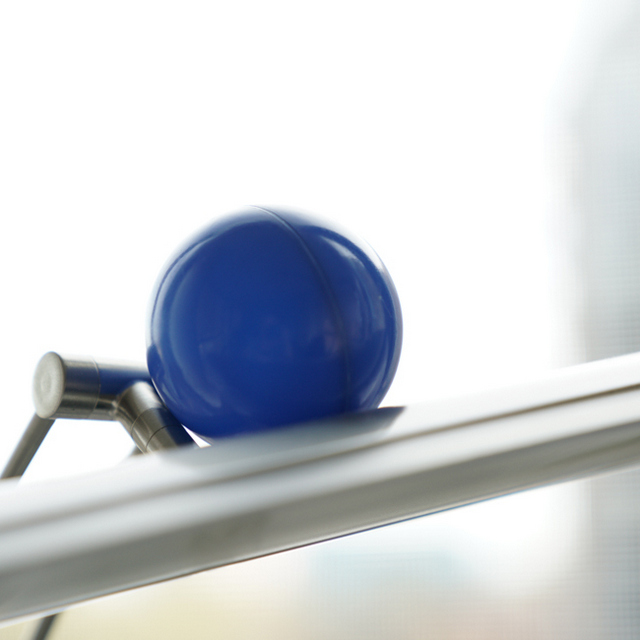Ball: (151, 204, 400, 444)
